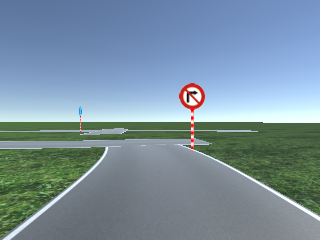-5: (1, 196, 320, 239)
NoRight: (179, 83, 205, 109)
